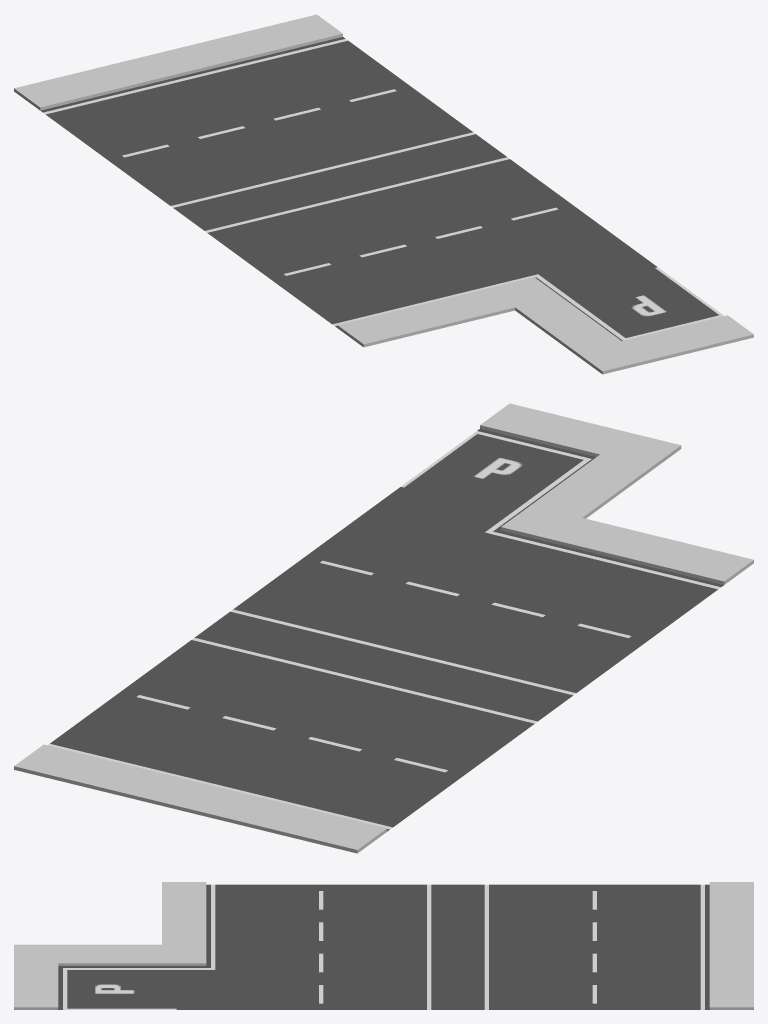
Rendered from SPW_Urban_Road 4way_Side Parking_03.gltf.
The picture shows the model from 3 angles, top to bottom: view 1: azimuth 30°, elevation 25°; view 2: azimuth 150°, elevation 25°; view 3: azimuth 270°, elevation 25°; orthographic projection. The views are drawn at different scales.
Parts seen in each view (by area): view 1: SPW_Urban_Road_4way_Side_Parking_03; view 2: SPW_Urban_Road_4way_Side_Parking_03; view 3: SPW_Urban_Road_4way_Side_Parking_03.
Part boxes in pixels (x1,y1,x2,y2): SPW_Urban_Road_4way_Side_Parking_03: [14, 14, 753, 374]; SPW_Urban_Road_4way_Side_Parking_03: [14, 403, 753, 853]; SPW_Urban_Road_4way_Side_Parking_03: [14, 882, 753, 1009].
Bounding box in the file's own units: 787 × 7.87 × 1969.
Materials: 1 (1 with a texture image).
